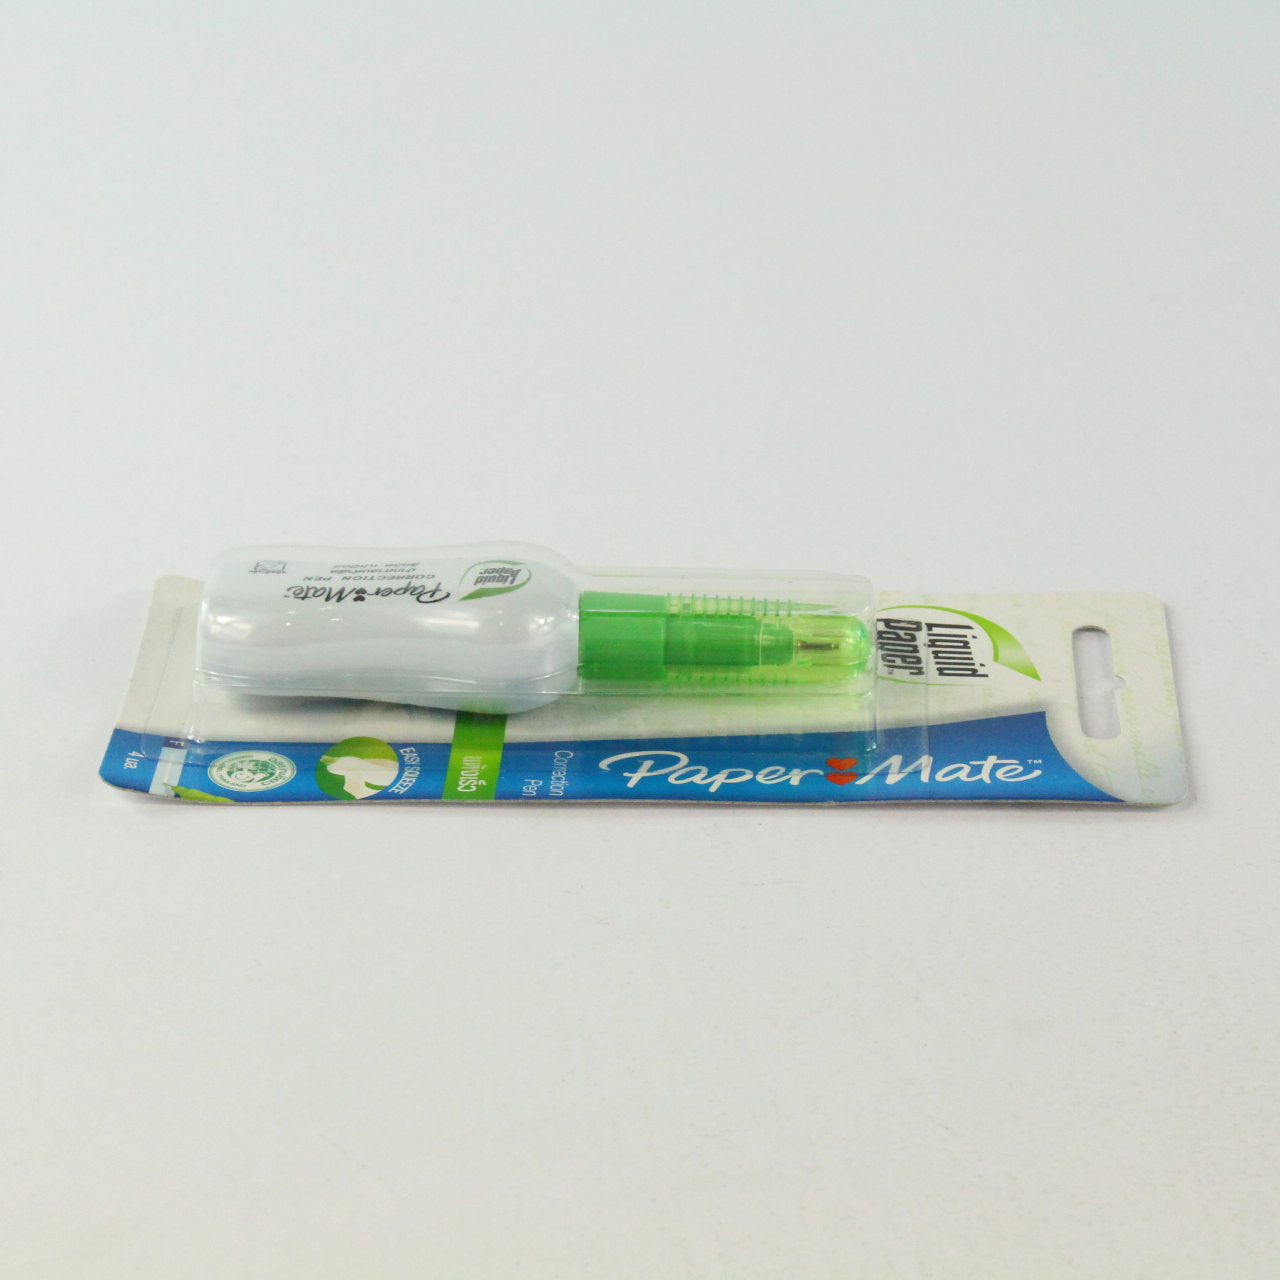Correction_fluid: (184, 538, 881, 719)
